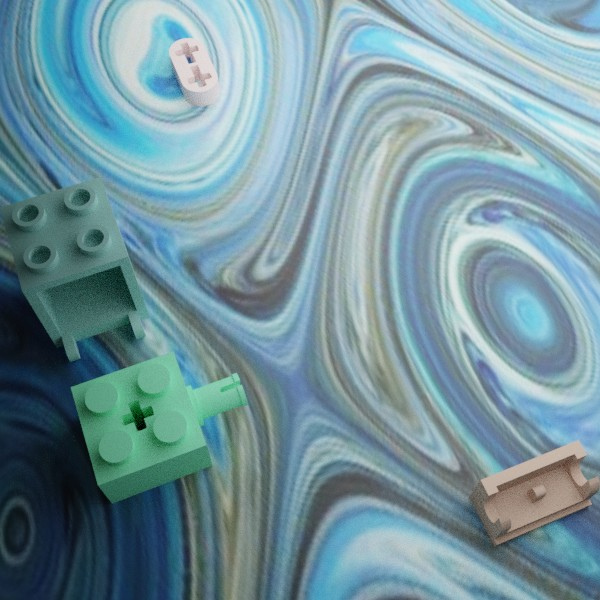lego: (0, 176, 149, 362), (70, 351, 247, 503), (469, 440, 600, 547), (169, 38, 219, 106)
